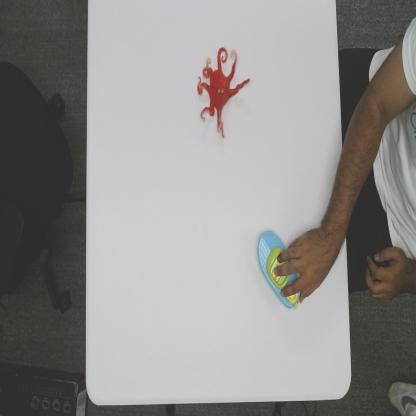Boat: (256, 228, 302, 312)
Hand: (274, 229, 335, 303)
Octopus: (196, 45, 252, 140)
